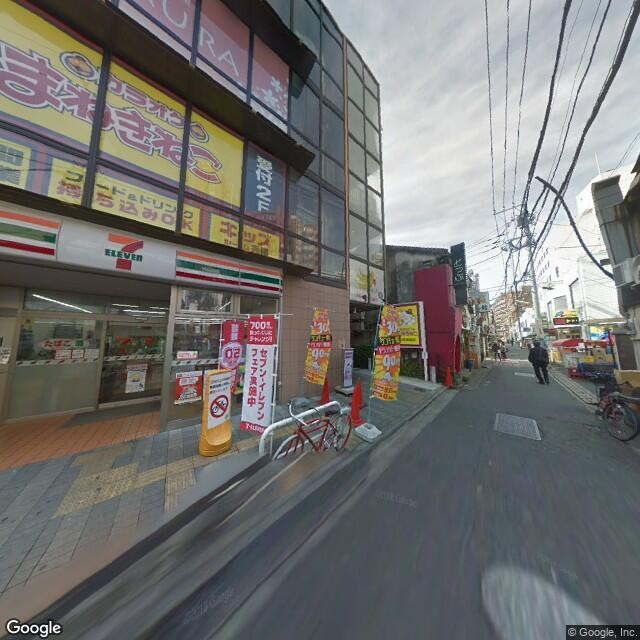7-eleven: (1, 200, 287, 300)
